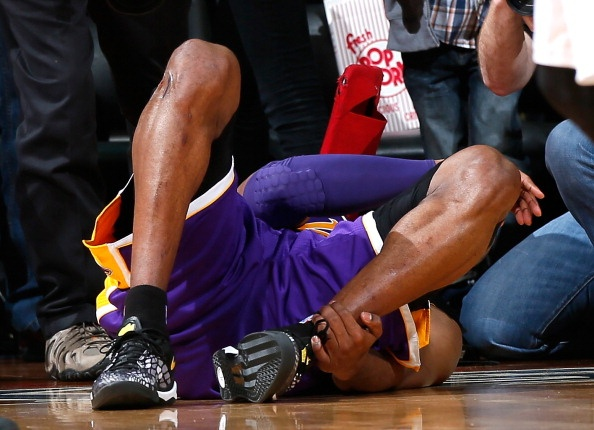falling: (48, 14, 544, 420)
